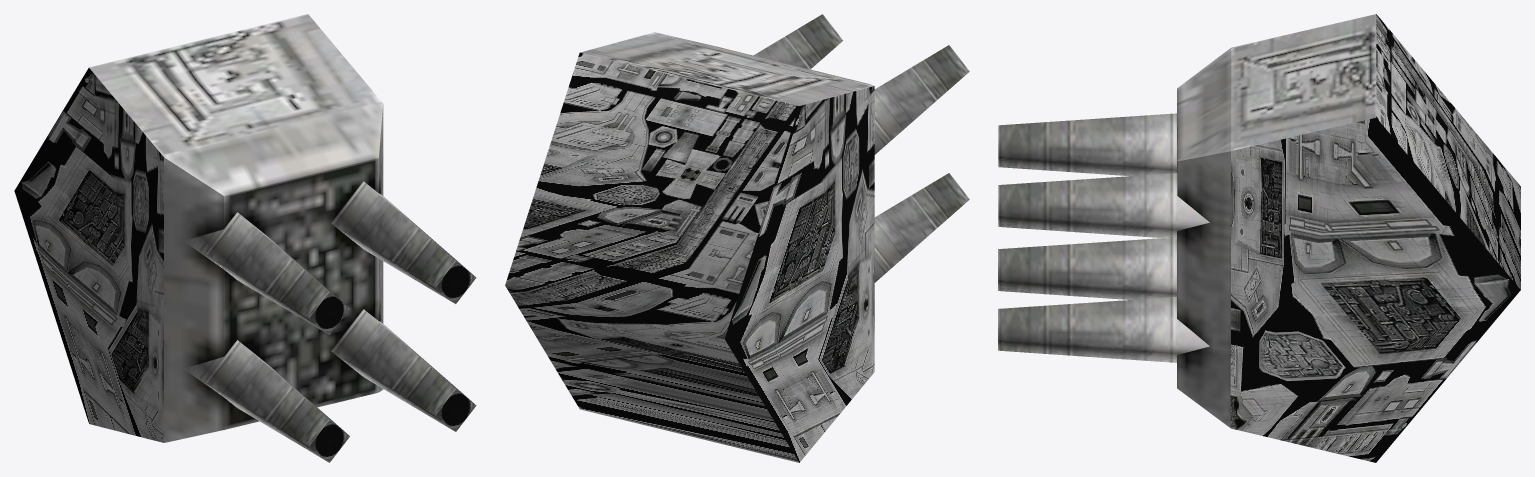
The model's file is star_destroyer_turret_med_gun_l1.fbx.
3 renders of one model, left to right at view 1: azimuth 30°, elevation 25°; view 2: azimuth 150°, elevation 25°; view 3: azimuth 270°, elevation 25°, orthographic. The views are drawn at different scales.
Visible parts, largest first — view 1: mesh_node; view 2: mesh_node; view 3: mesh_node.
Boxes of the visible parts, x1,y1,x2,y2 form: mesh_node: (14, 14, 476, 462); mesh_node: (505, 14, 969, 462); mesh_node: (998, 14, 1520, 462).
Size of the model in its own units: 5.24 by 8.13 by 11.16.
1 material, 1 textured.
